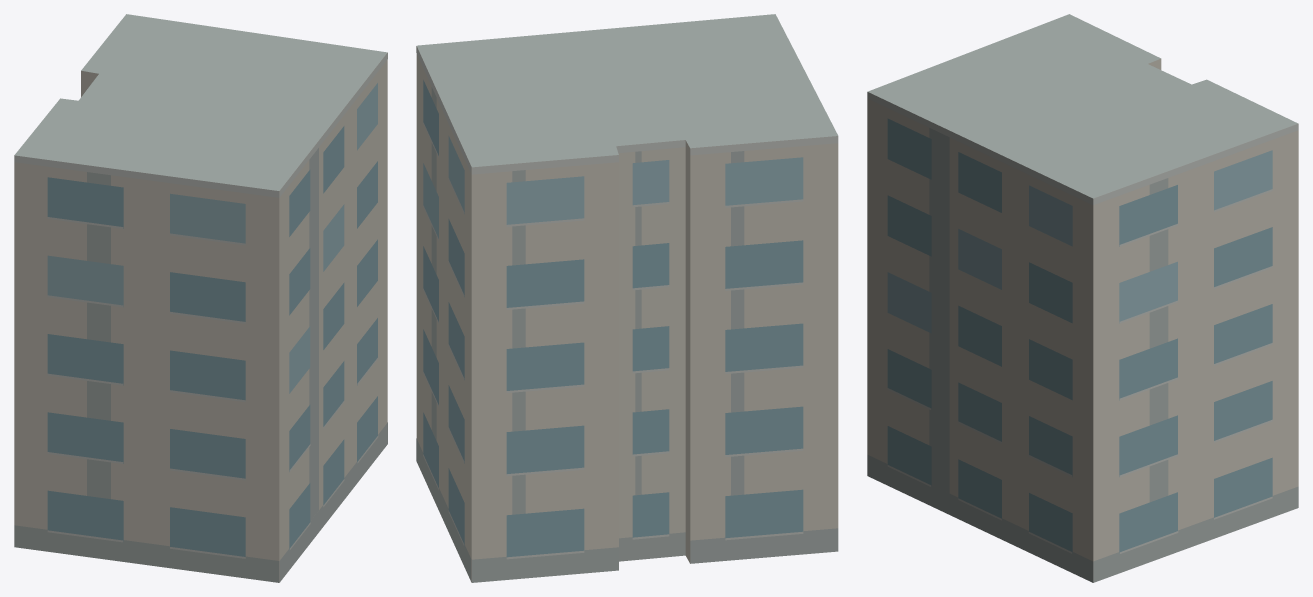
The model's file is survey-upis-32629893.glb.
3 renders of one model, left to right at view 1: azimuth 30°, elevation 25°; view 2: azimuth 150°, elevation 25°; view 3: azimuth 270°, elevation 25°, orthographic. The views are drawn at different scales.
Visible parts, largest first — view 1: survey-upis-32629893.tmp; view 2: survey-upis-32629893.tmp; view 3: survey-upis-32629893.tmp.
Boxes of the visible parts, bbox=[...] form: survey-upis-32629893.tmp: bbox=[14, 14, 387, 582]; survey-upis-32629893.tmp: bbox=[416, 14, 838, 582]; survey-upis-32629893.tmp: bbox=[867, 14, 1298, 582].
Bounding box in the file's own units: 14.43 × 14 × 14.24.
